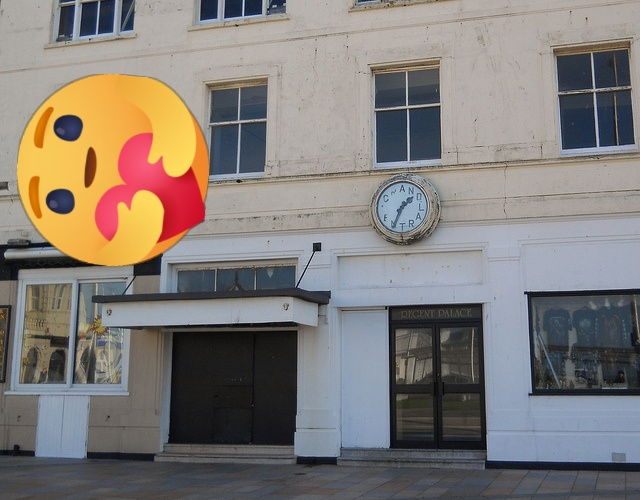care: (17, 74, 209, 266)
